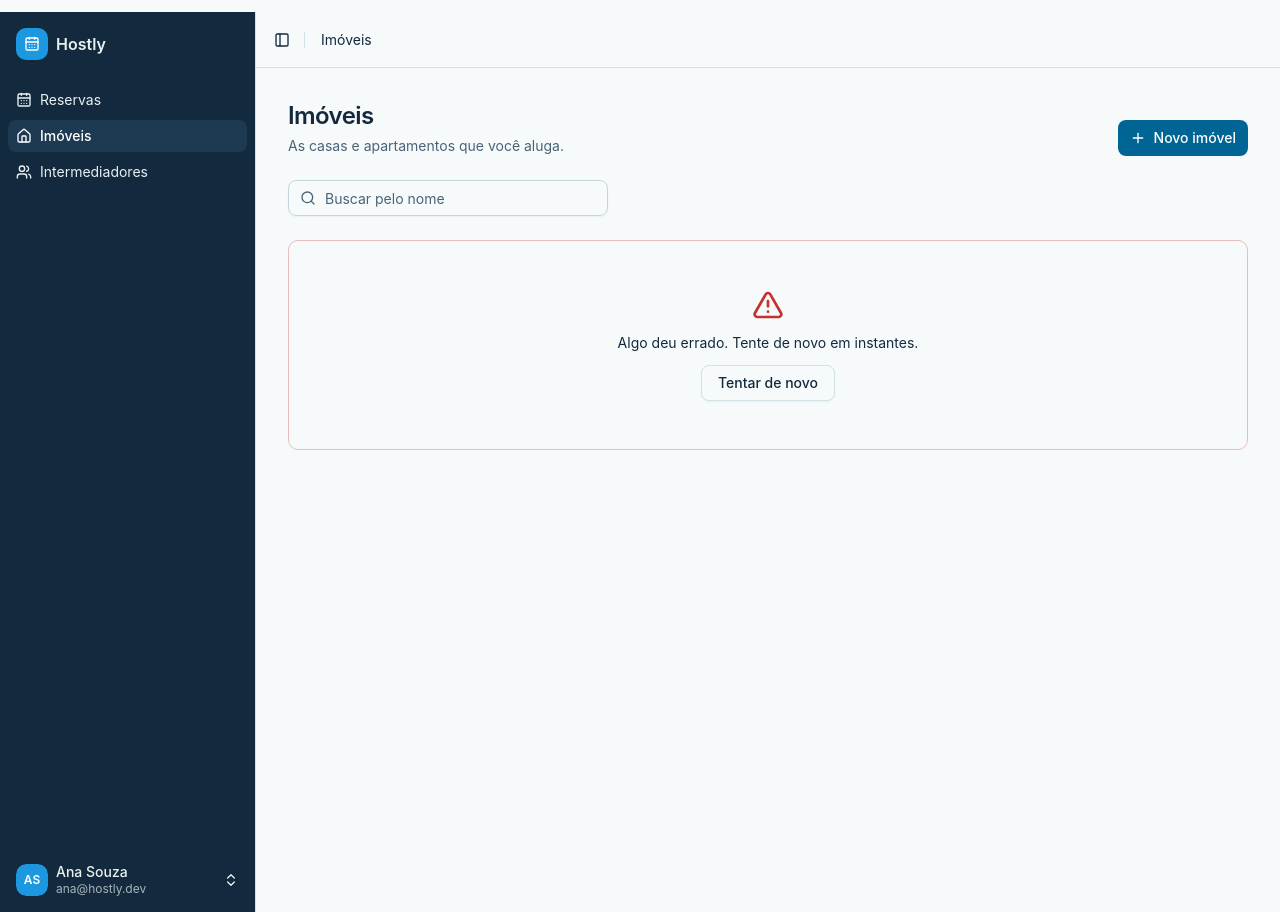
Scenario: properties list › shows the error and retries
Expected: the heading "Imóveis" is shown, [288, 101, 374, 130]
Click the button "Tentar de novo" at (768, 383), box [701, 365, 835, 401]
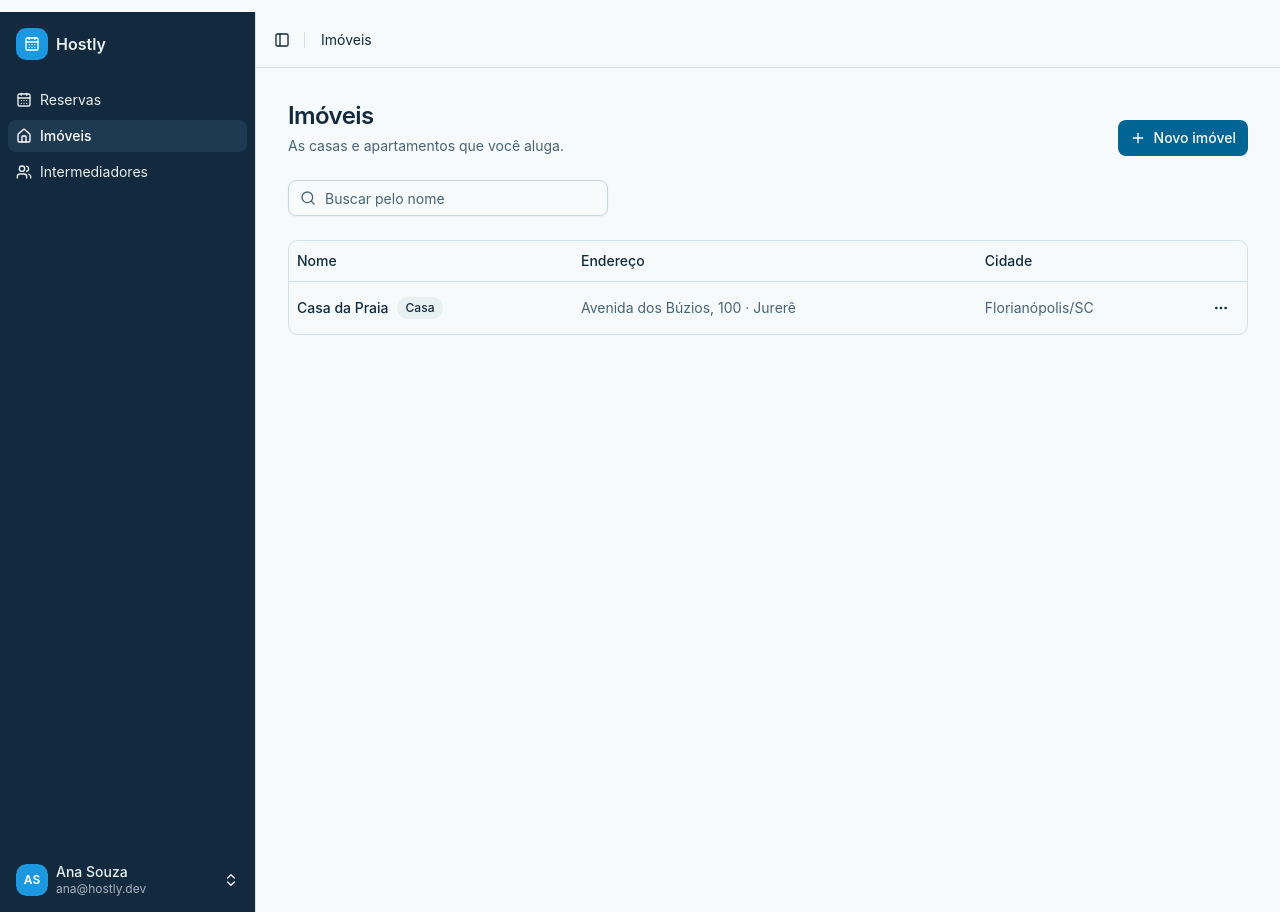
Result: the text "Casa da Praia" is shown at [297, 298, 388, 318]
